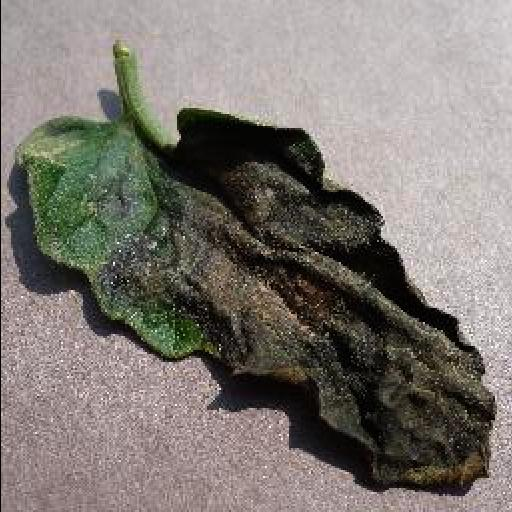disease_tomato: (20, 108, 494, 494)
